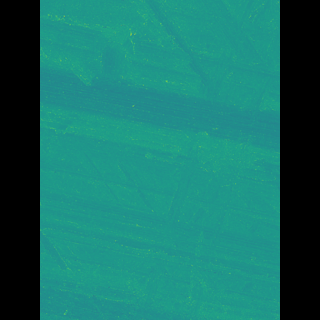Loch: (141, 0, 250, 320), (70, 0, 144, 91)
